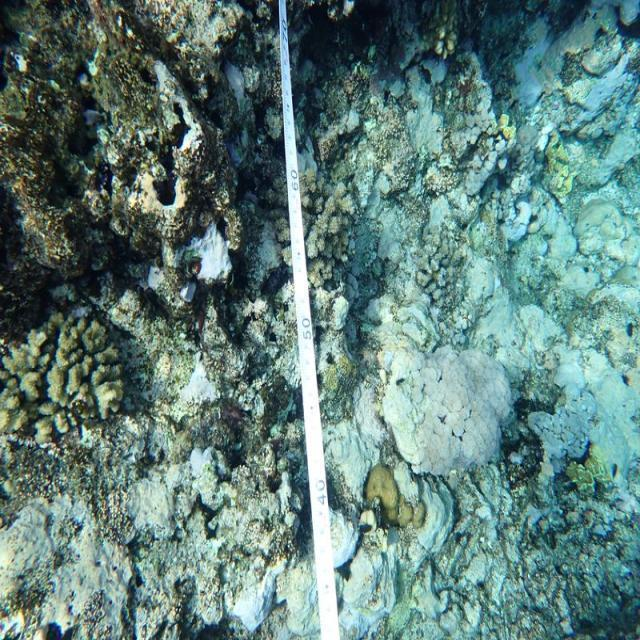Bleached Coral: (375, 318, 540, 488)
Healthy Coral: (0, 323, 135, 428)
